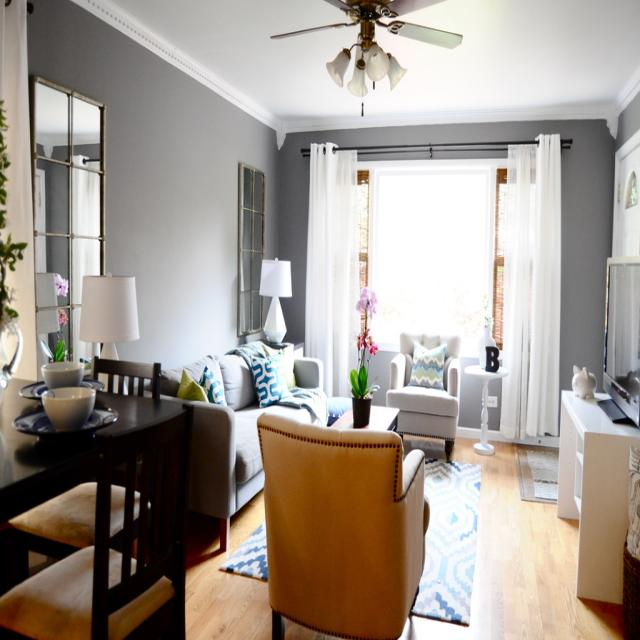Bulb: (269, 0, 462, 116)
